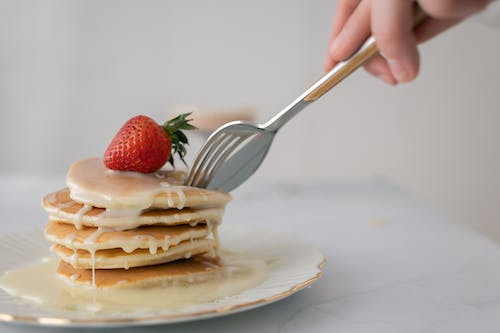knife: (190, 35, 377, 193)
